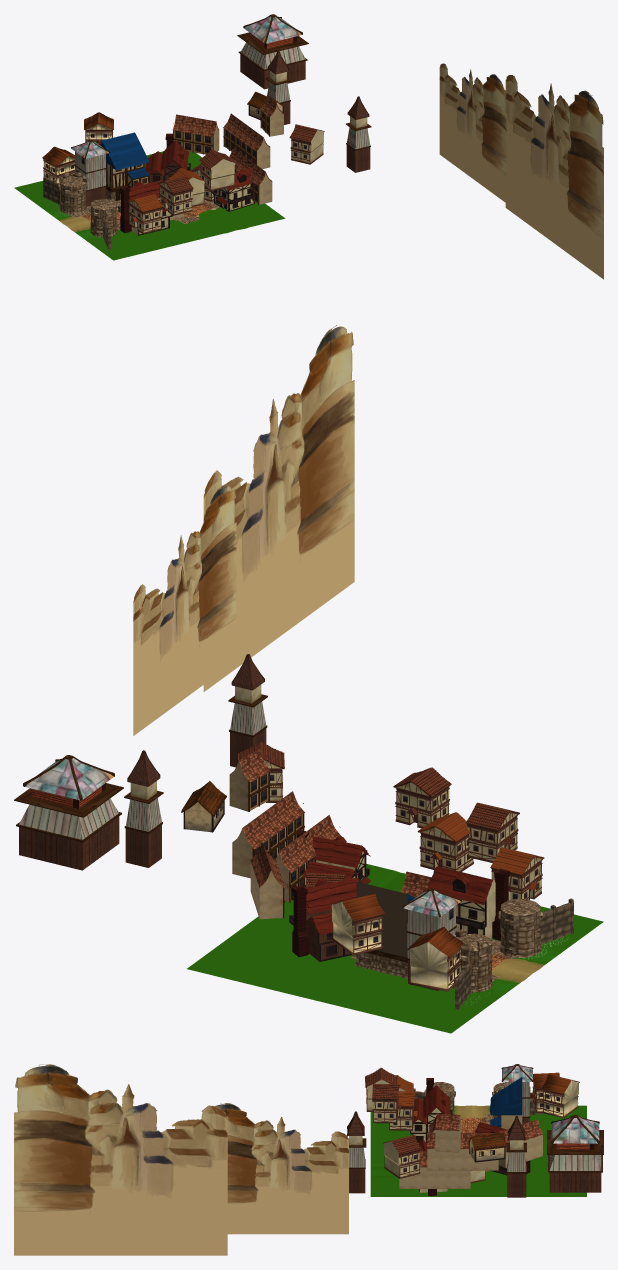
Rendered from t1a1_entrance.fbx.
3 renders of one model, top to bottom at view 1: azimuth 30°, elevation 25°; view 2: azimuth 150°, elevation 25°; view 3: azimuth 270°, elevation 25°, orthographic. The views are drawn at different scales.
Visible parts, largest first — view 1: Plane.006, Plane.001, Plane.005, Plane.004, Plane.003, Plane.010, Plane.008, Plane.002, Plane.013, Plane.009, Plane.014, Plane.000 (+3 smaller); view 2: Plane.006, Plane.001, Plane.005, Plane.004, Plane.003, Plane.008, Plane.014, Plane.010, Plane.013, Plane.009, Plane.002, Plane.000 (+3 smaller); view 3: Plane.006, Plane.001, Plane.005, Plane.003, Plane.010, Plane.014, Plane.004, Plane.013, Plane.002, Plane.011, Plane.009, Plane.000 (+3 smaller).
Boxes of the visible parts, box(x1,y1,x2,y2) form: Plane.006: box(439, 63, 603, 279); Plane.001: box(14, 151, 285, 260); Plane.005: box(240, 16, 370, 172); Plane.004: box(117, 133, 255, 235); Plane.003: box(223, 95, 283, 204); Plane.010: box(237, 14, 371, 164); Plane.008: box(43, 172, 118, 249); Plane.002: box(101, 132, 213, 201); Plane.013: box(158, 149, 236, 215); Plane.009: box(127, 167, 204, 234); Plane.014: box(42, 112, 113, 183); Plane.000: box(172, 114, 219, 154); Plane.006: box(133, 325, 354, 735); Plane.001: box(187, 864, 603, 1033); Plane.005: box(19, 656, 266, 870); Plane.004: box(289, 830, 511, 961); Plane.003: box(229, 749, 341, 902); Plane.008: box(453, 898, 573, 1009); Plane.014: box(330, 893, 463, 991); Plane.010: box(14, 654, 284, 842); Plane.013: box(393, 767, 519, 862); Plane.009: box(417, 812, 544, 899); Plane.002: box(305, 873, 414, 978); Plane.000: box(250, 842, 285, 919); Plane.006: box(14, 1064, 348, 1255); Plane.001: box(370, 1105, 586, 1196); Plane.005: box(347, 1113, 601, 1197); Plane.003: box(399, 1113, 498, 1188); Plane.010: box(347, 1111, 603, 1178); Plane.014: box(530, 1072, 579, 1118); Plane.004: box(410, 1078, 530, 1195); Plane.013: box(365, 1067, 401, 1123); Plane.002: box(470, 1077, 522, 1183); Plane.011: box(468, 1132, 506, 1162); Plane.009: box(389, 1075, 417, 1130); Plane.000: box(498, 1119, 542, 1168).
Size of the model in its own units: 10022 by 5883 by 14434.
